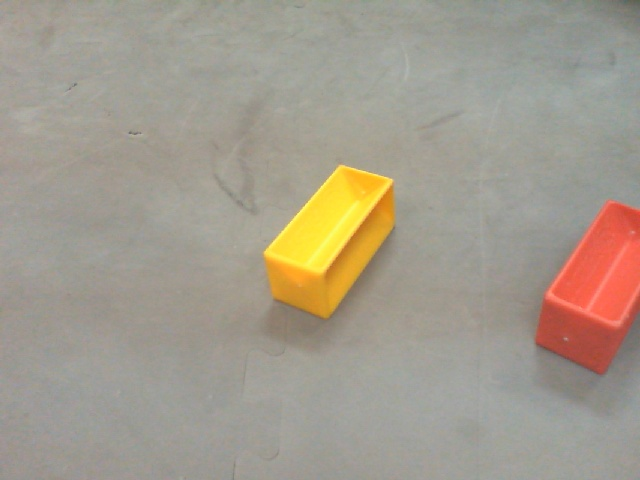RedSample: (531, 189, 640, 382)
YellowSample: (264, 160, 397, 318)
